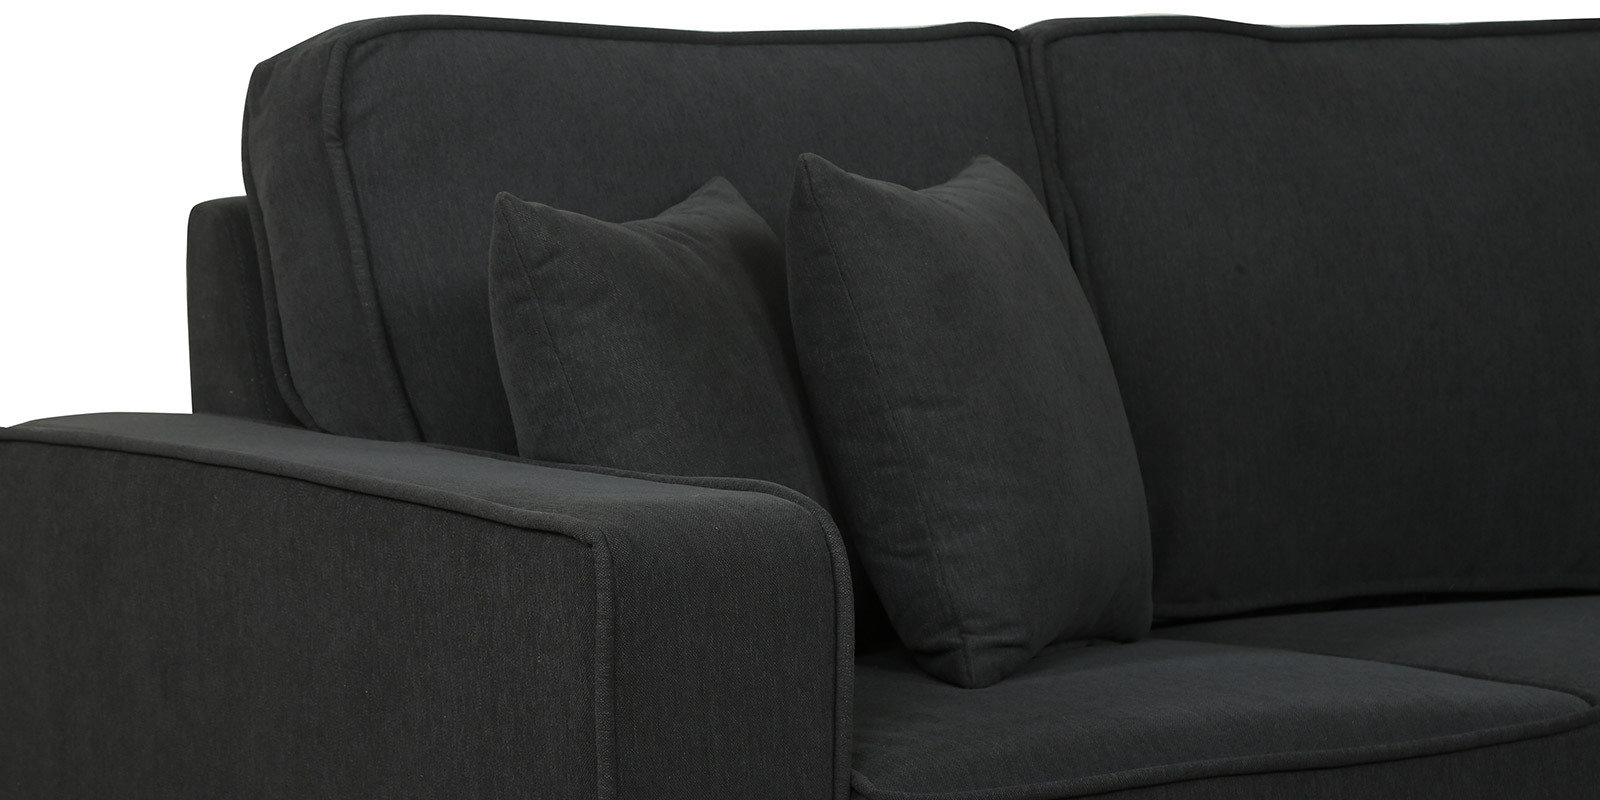Hugo Three Seater Sofa in Charcoal Grey Colour by CasaCraft: (2, 3, 1599, 794)
